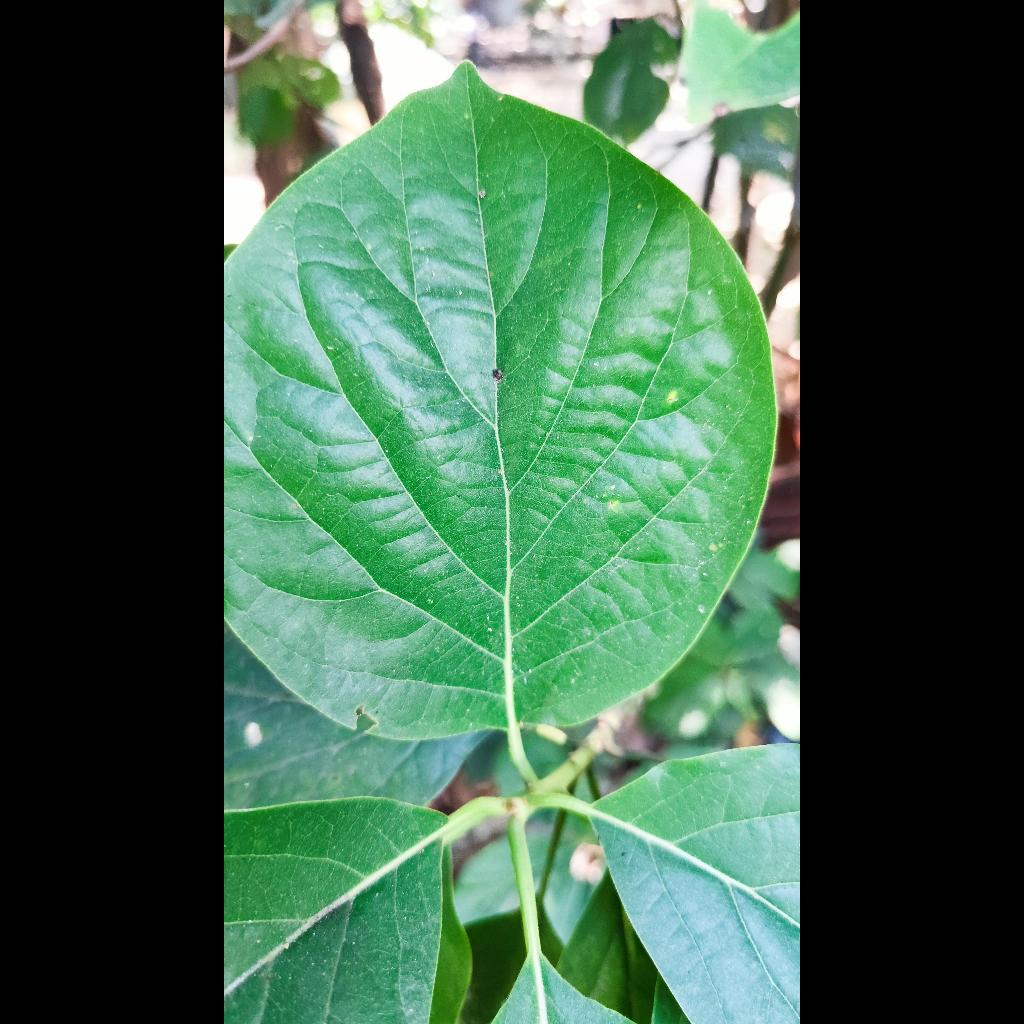hoja_sana: (224, 64, 774, 776)
